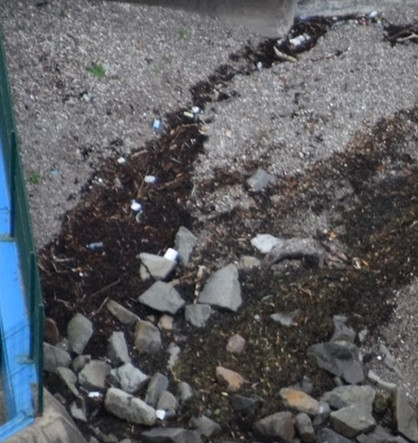net: (115, 109, 175, 217)
white_in_green: (268, 15, 331, 67), (147, 235, 193, 278), (74, 222, 119, 262)
